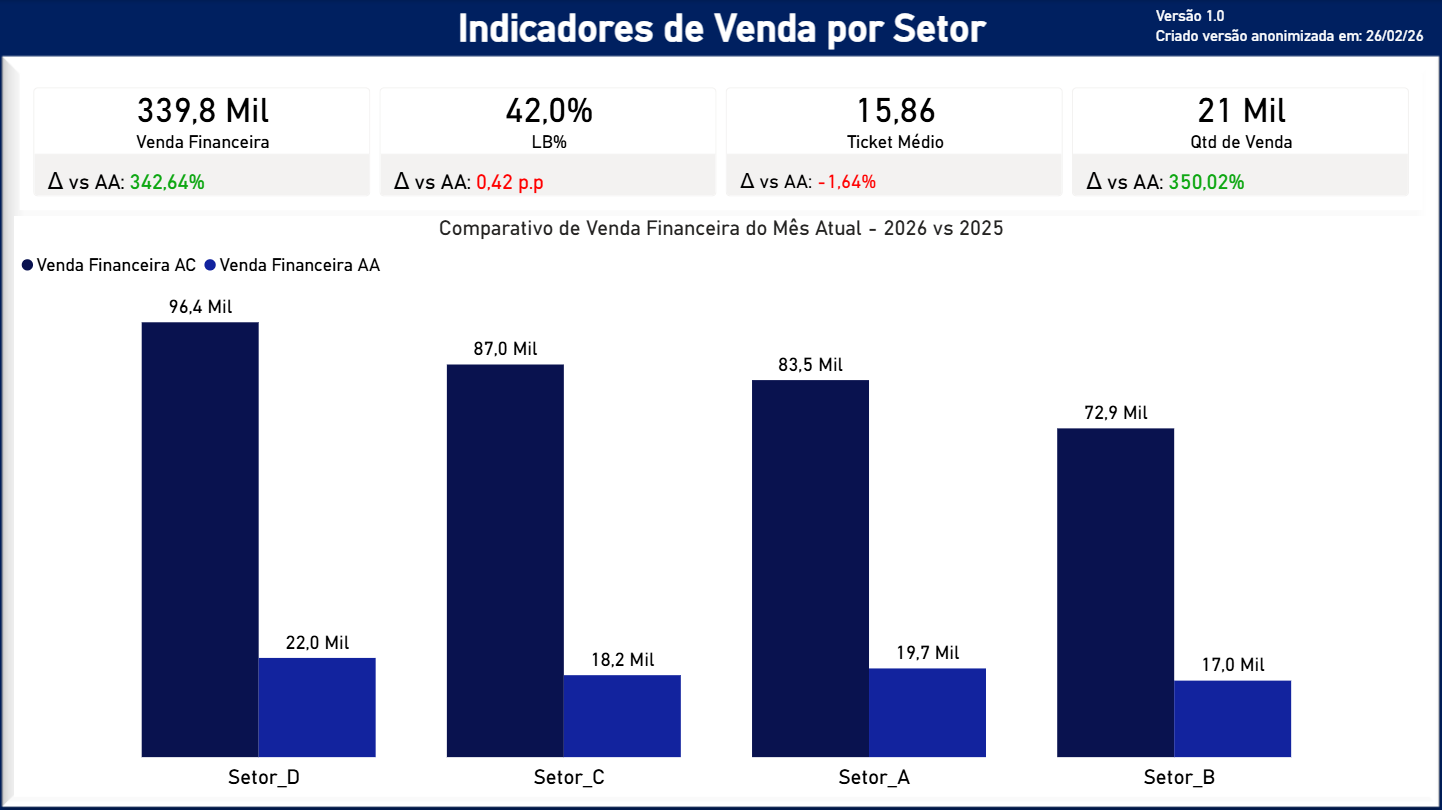

The page's visual inventory and layout, read from the dashboard file:
{"tool":"powerbi","page":{"name":"Indicadores por Setor","canvas":[1280,720],"ordinal":1},"visuals":[{"type":"cardVisual","fields":{"Data":["_Medidas.Venda Financeira","_Medidas.LB%","_Medidas.Ticket Médio","_Medidas.Qtd de Venda"]},"box":[12.6,60,1254.7,131.2],"z":0},{"type":"textbox","box":[0,0,1280.2,53],"z":1000},{"type":"clusteredColumnChart","fields":{"Category":["dProdutos.Setor"],"Y":["_Medidas.Venda Financeira","_Medidas.1.0 VENDA AA"]},"box":[12.6,191.2,1254.7,515.2],"z":2000},{"type":"textbox","box":[1019.4,0,260.6,56.2],"z":3000}]}

Visuals, with their boxes in screenshot pixels (x1, y1, x2, y2), scaled from the page's 1280x720 canvas onto the 1442x810 screenshot:
cardVisual - _Medidas.Venda Financeira x _Medidas.LB%: [x1=14, y1=68, x2=1428, y2=215]
textbox: [x1=0, y1=0, x2=1441, y2=60]
clusteredColumnChart - dProdutos.Setor x _Medidas.Venda Financeira: [x1=14, y1=215, x2=1428, y2=795]
textbox: [x1=1148, y1=0, x2=1441, y2=63]
